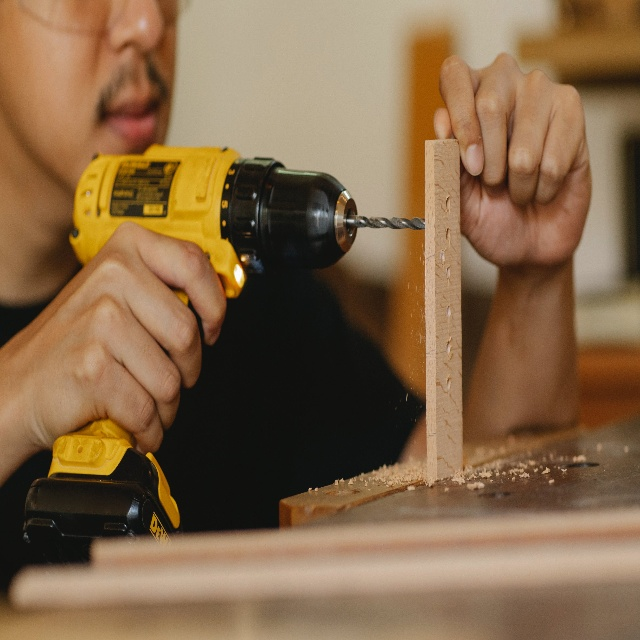Sin_guantes: (17, 219, 228, 456), (433, 50, 592, 271)
